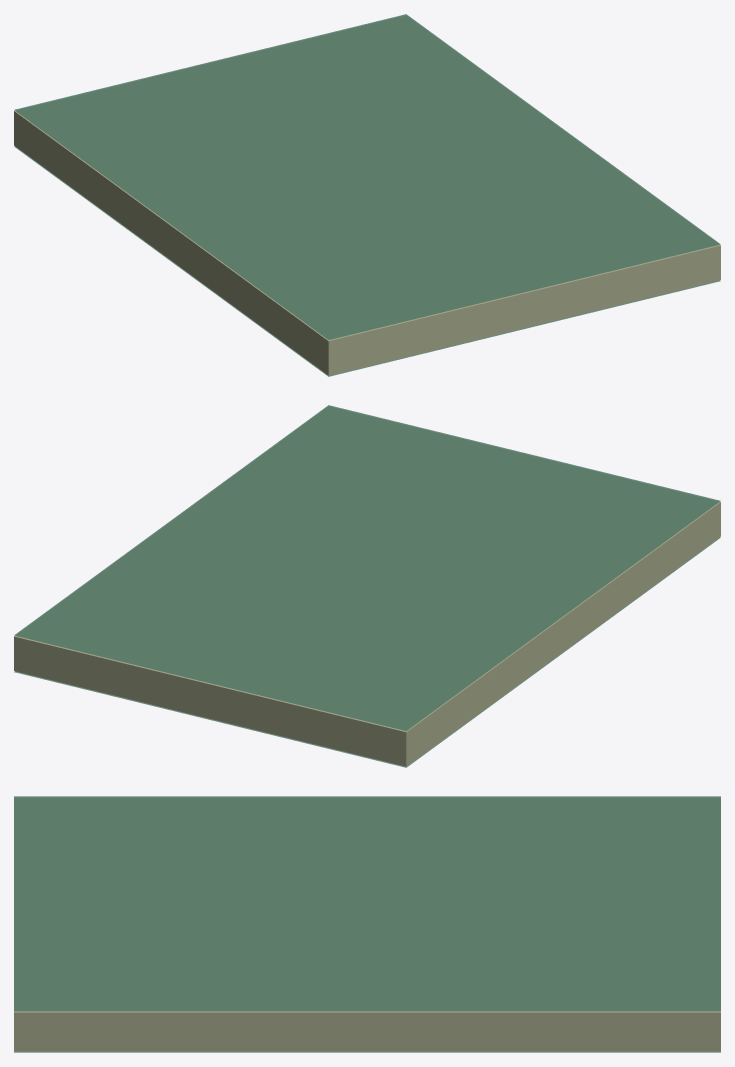
File: routing-cabled-c2.glb
3 renders of one model, top to bottom at view 1: azimuth 30°, elevation 25°; view 2: azimuth 150°, elevation 25°; view 3: azimuth 270°, elevation 25°, orthographic. The views are drawn at different scales.
Parts seen in each view (by area): view 1: =>[0:1:1:6], =>[0:1:1:4], =>[0:1:1:5]; view 2: =>[0:1:1:6], =>[0:1:1:4], =>[0:1:1:5]; view 3: =>[0:1:1:6], =>[0:1:1:4], =>[0:1:1:5].
Boxes of the visible parts, x1,y1,x2,y2 form: =>[0:1:1:6]: (14, 16, 720, 375); =>[0:1:1:4]: (14, 14, 720, 339); =>[0:1:1:5]: (14, 146, 720, 376); =>[0:1:1:6]: (14, 407, 720, 766); =>[0:1:1:4]: (14, 405, 720, 730); =>[0:1:1:5]: (14, 537, 720, 767); =>[0:1:1:6]: (14, 798, 720, 1051); =>[0:1:1:4]: (14, 796, 720, 1011); =>[0:1:1:5]: (14, 1051, 720, 1052).
Bounding box in the file's own units: 0.018 × 0.00164 × 0.025.
